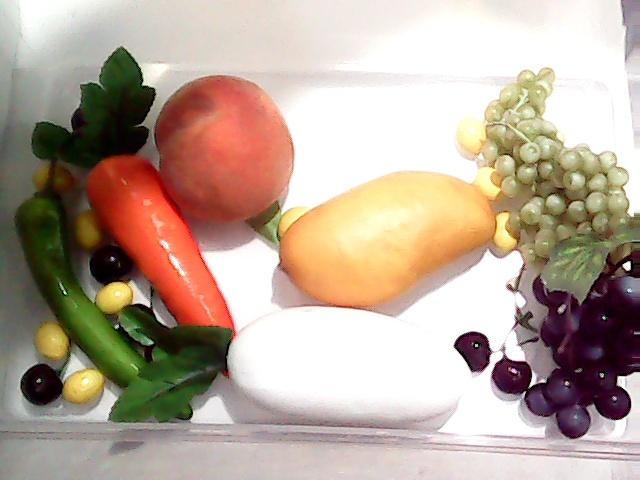carrot: (34, 44, 238, 376)
grape: (483, 66, 633, 270), (523, 238, 640, 439)
mango: (279, 167, 497, 309)
peach: (154, 76, 296, 222)
pepper: (11, 166, 192, 418)
radish: (110, 299, 473, 433)
